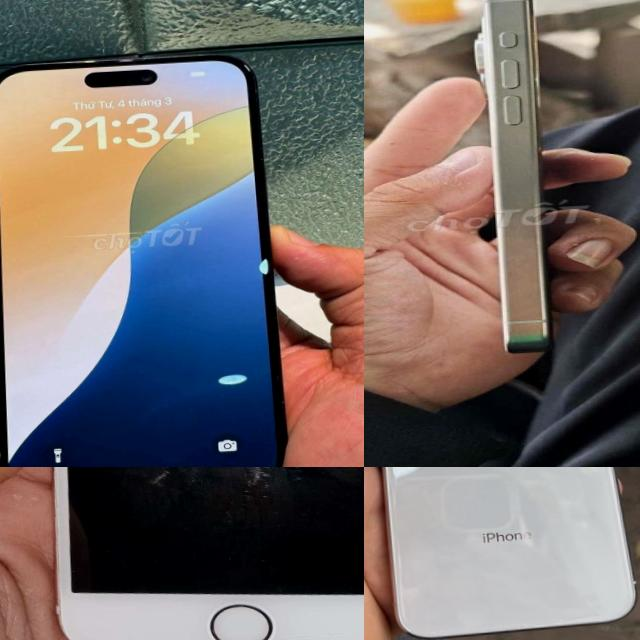gen_15: (0, 36, 321, 467), (448, 0, 610, 366)
gen_6: (26, 467, 364, 640)
gen_x_xs: (364, 467, 640, 640)
